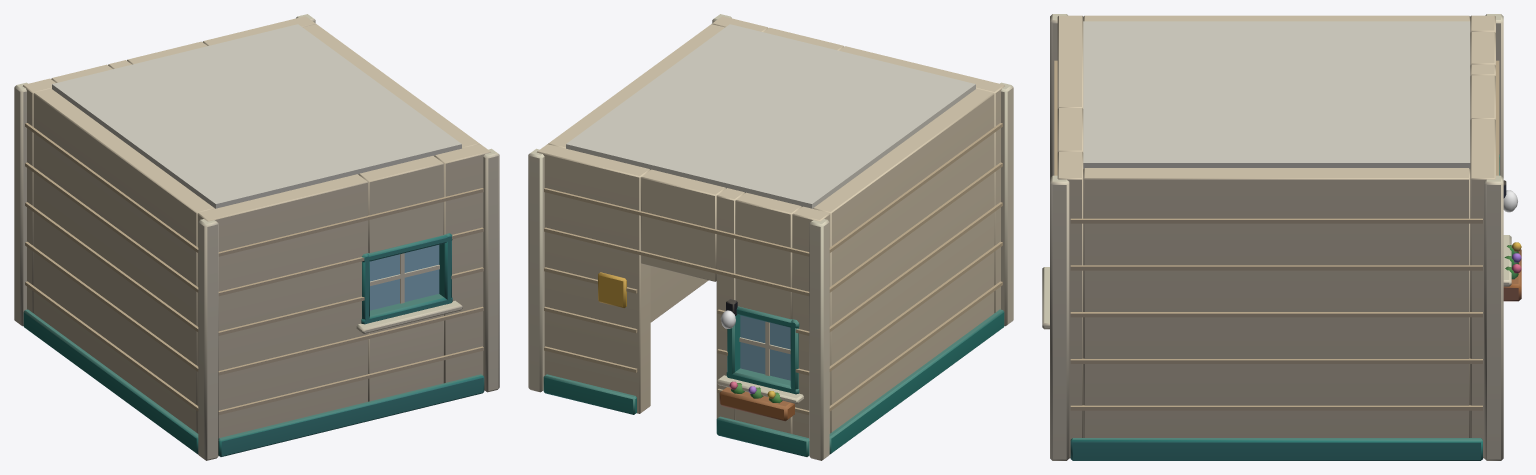
File: RoomUnit.fbx
3 views of the same model, side by side, from view 1: azimuth 30°, elevation 25°; view 2: azimuth 150°, elevation 25°; view 3: azimuth 270°, elevation 25° (orthographic). The views are drawn at different scales.
Visible parts, largest first — view 1: SM_Bld_Room_Walls, SM_Bld_Room_Trim, SM_Bld_Room_Glass; view 2: SM_Bld_Room_Walls, SM_Bld_Room_Trim, SM_Bld_Room_Glass; view 3: SM_Bld_Room_Walls, SM_Bld_Room_Trim.
Boxes of the visible parts, bbox=[...] form: SM_Bld_Room_Walls: bbox=[23, 16, 490, 438]; SM_Bld_Room_Trim: bbox=[14, 14, 499, 460]; SM_Bld_Room_Glass: bbox=[370, 245, 439, 310]; SM_Bld_Room_Walls: bbox=[537, 16, 1004, 438]; SM_Bld_Room_Trim: bbox=[528, 14, 1013, 460]; SM_Bld_Room_Glass: bbox=[740, 315, 790, 380]; SM_Bld_Room_Walls: bbox=[1054, 15, 1499, 458]; SM_Bld_Room_Trim: bbox=[1042, 14, 1521, 460].
Bounding box in the file's own units: 15.59 × 12.2 × 18.6.
